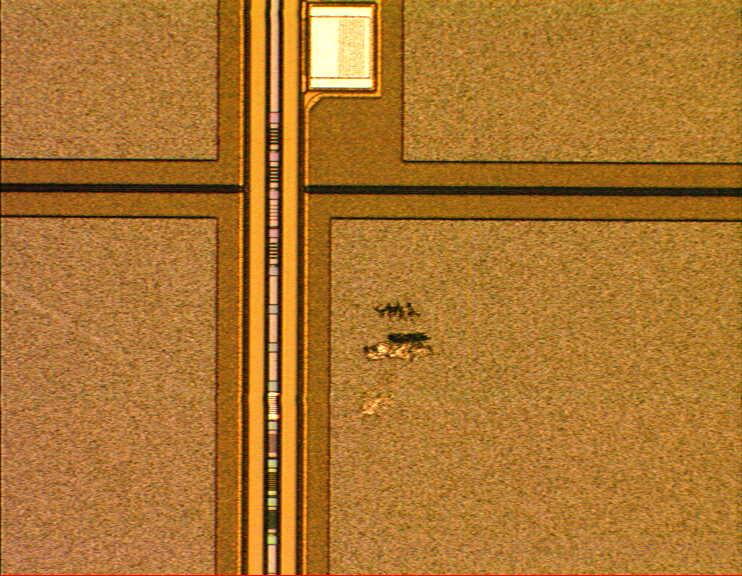SCRATCH: (352, 294, 442, 422)
